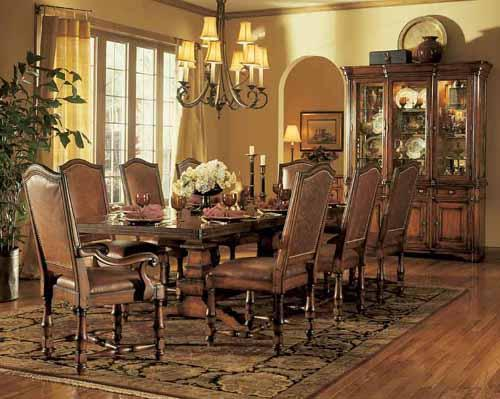Matera: (2, 80, 47, 302)
